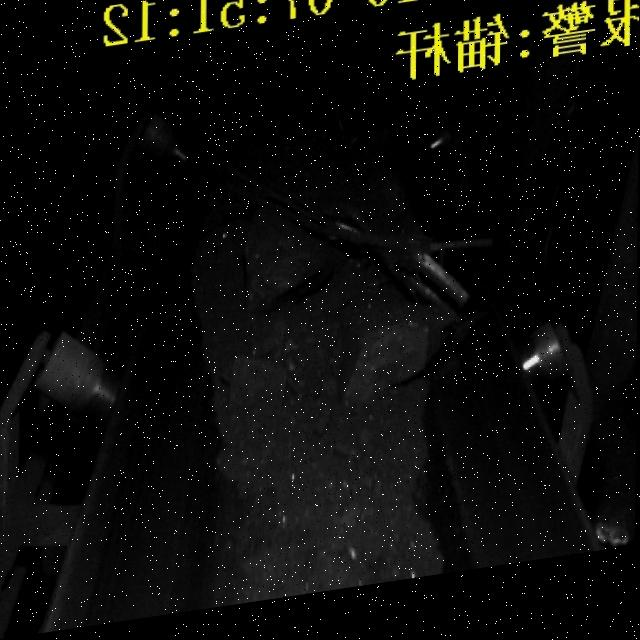bolt: (173, 110, 471, 362)
large_sized_coal: (239, 221, 331, 317), (339, 328, 428, 419), (226, 363, 286, 432)
